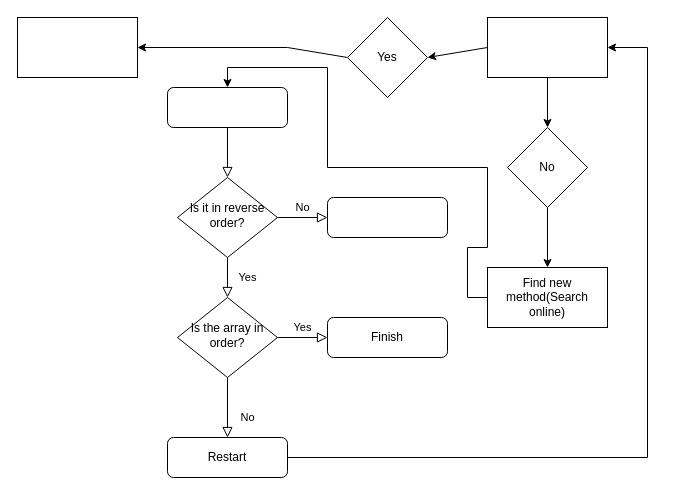
This 673x495 diagram has some shape labels left out. Here are the shapes that lost their labels. From the top down, the centre of each, then its label:
point (77, 47): I'm done
point (547, 47): Did I like the algorithm I used after finding out what it was?
point (227, 107): Need to sort array of random numbers
point (387, 217): Put lower value in front of larger value
